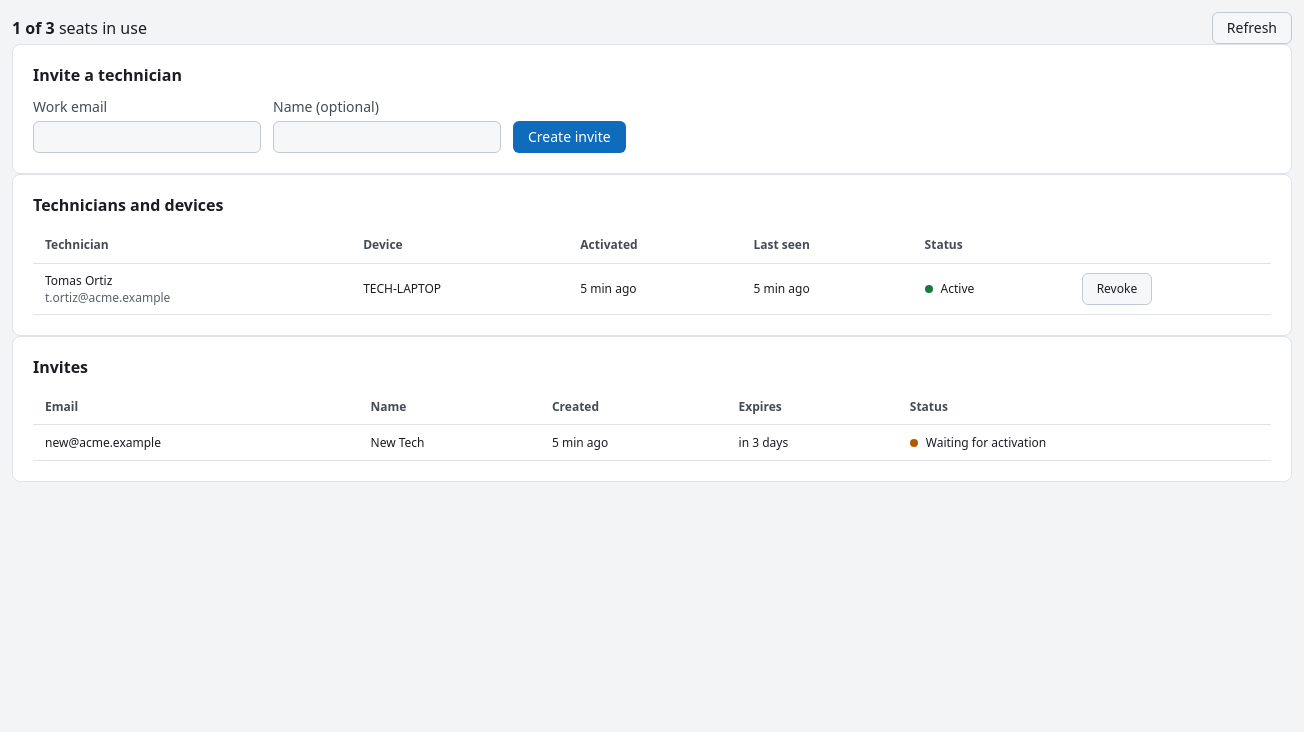
it: TechniciansPage › shows an invite code once, copies it, and does not show it again after Done
In the field labelled "Work email": (147, 137) 33,121 -> 261,153, type " tech@acme.example "
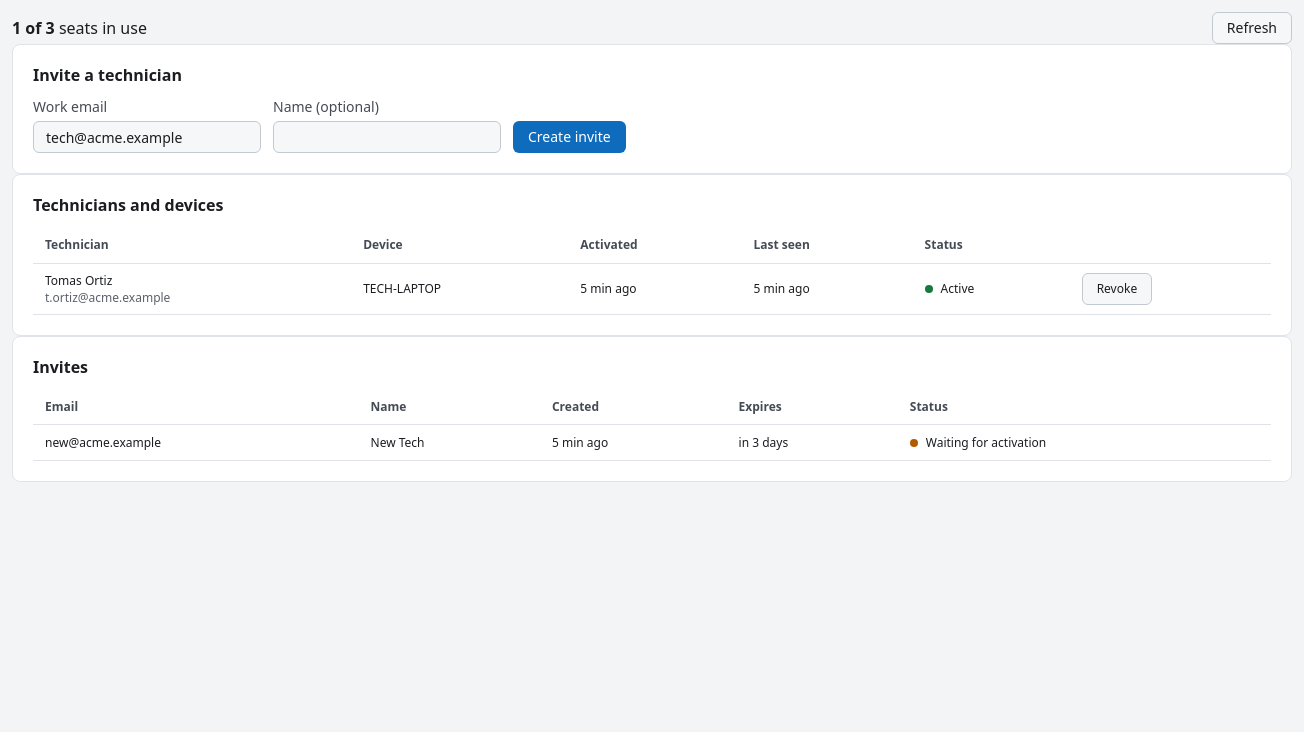
In the field labelled "Name (optional)": (387, 137) 273,121 -> 501,153, type "New Tech"
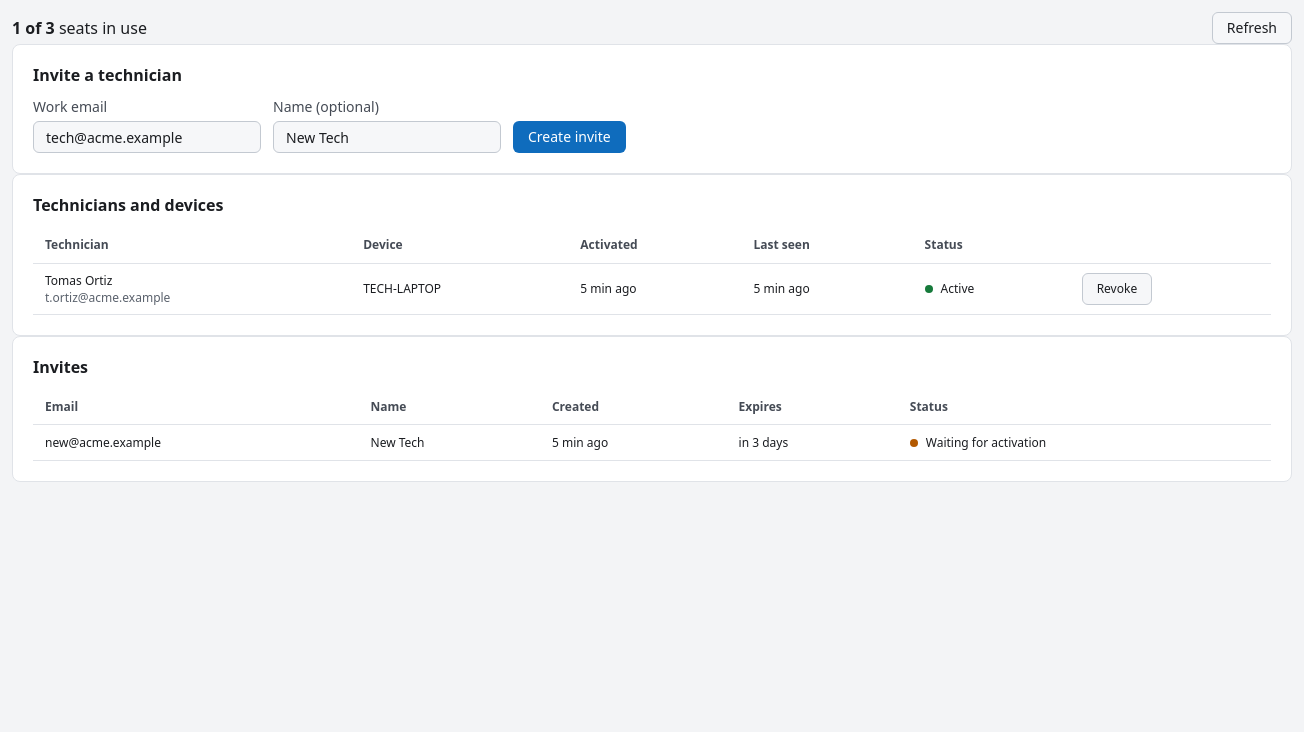
Click the button "Create invite": (569, 137) 513,121 -> 626,153
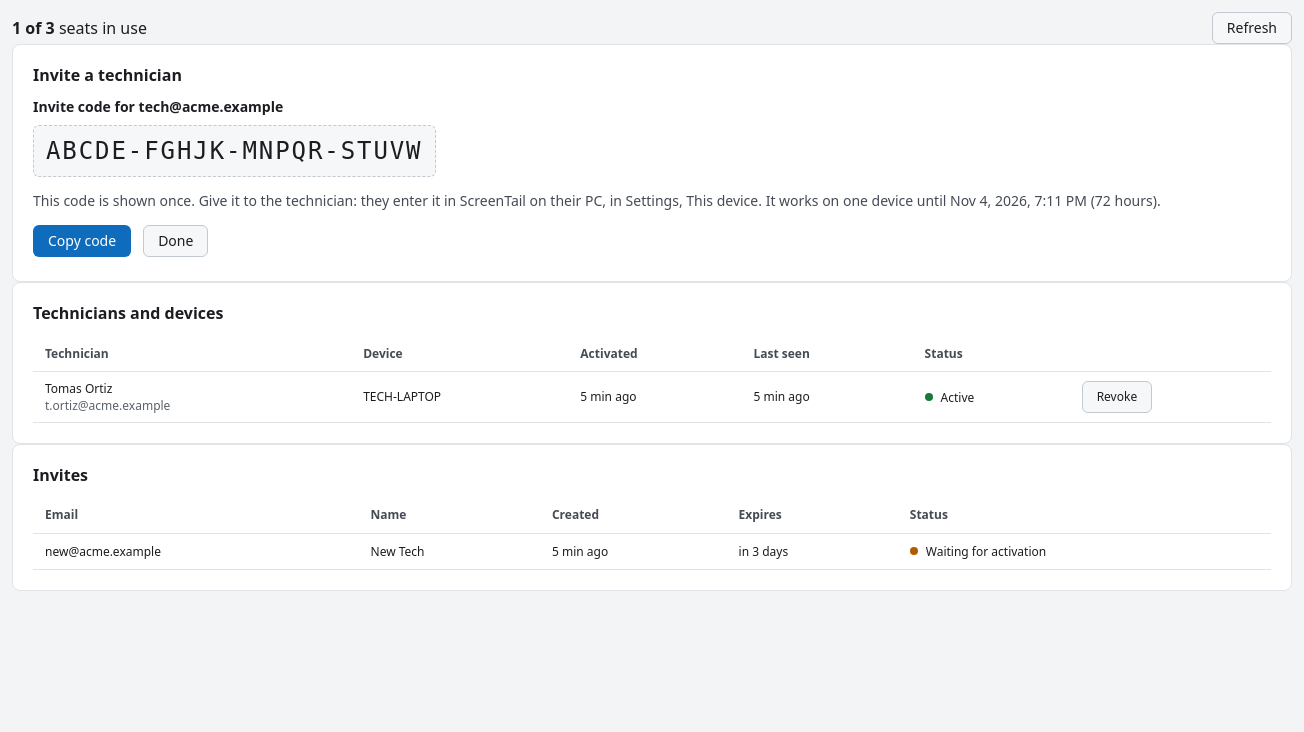
Expected: the text "ABCDE-FGHJK-MNPQR-STUVW" is shown, 33,125 -> 436,177
Expected: the text "shown once" is shown, 33,191 -> 950,210
Expected: the text "Invite code for tech@acme.example" is shown, 33,97 -> 283,116
Click the button "Copy code": (82, 241) 33,225 -> 131,257
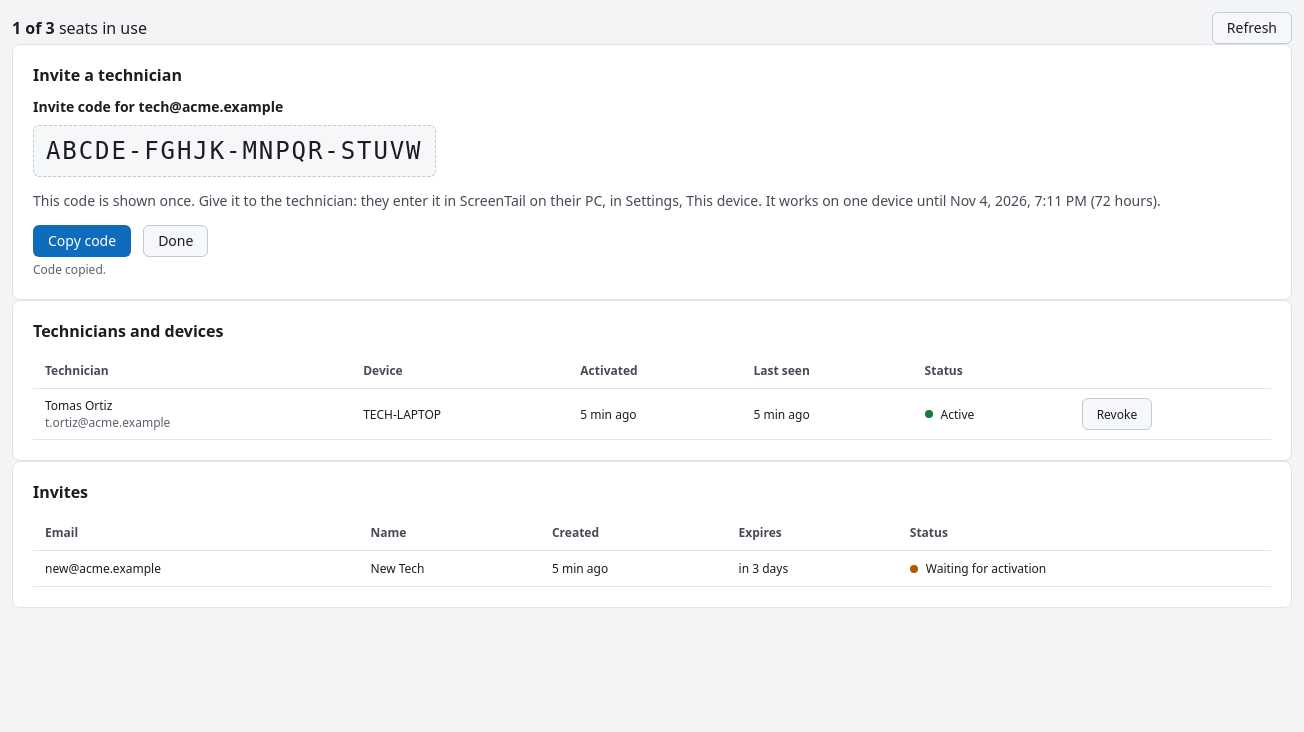
Expected: the text "Code copied." is shown, 33,261 -> 106,278
Click the button "Done": (176, 241) 143,225 -> 208,257
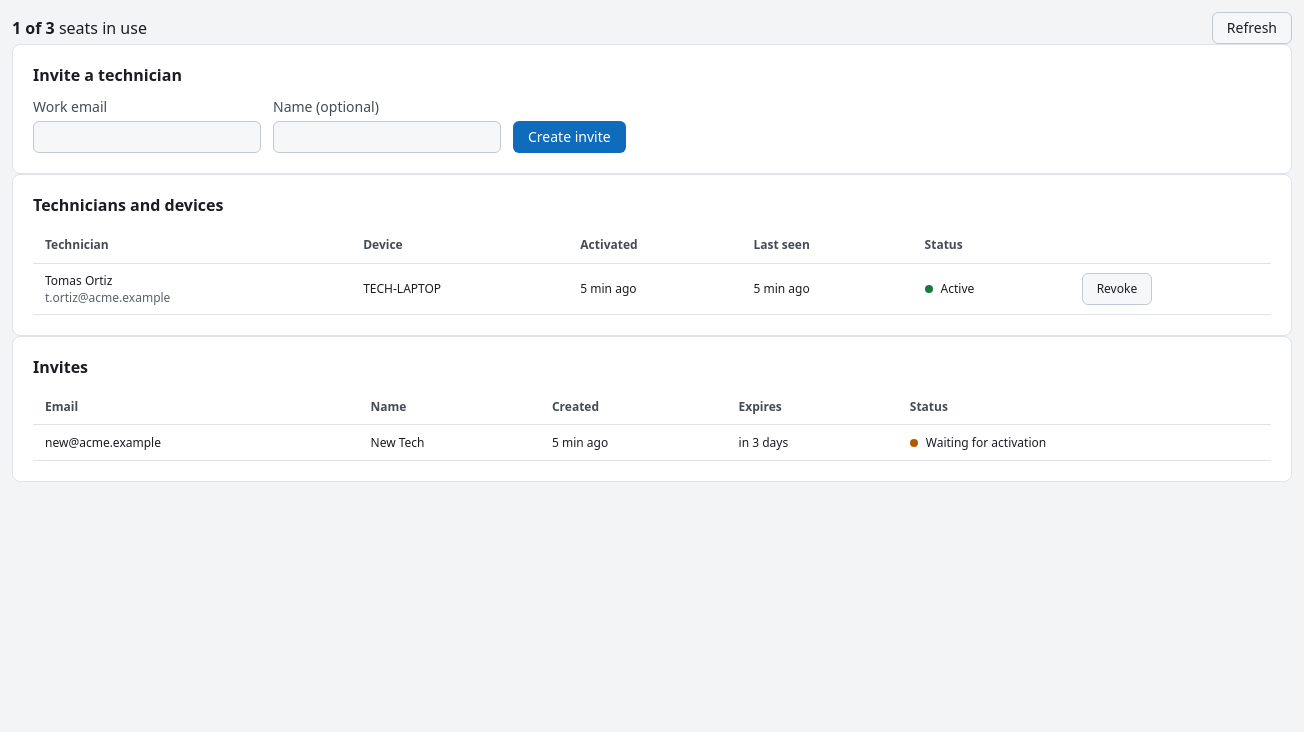
Expected: the text "ABCDE-FGHJK-MNPQR-STUVW" is gone
Expected: the field labelled "Work email" is shown, 33,121 -> 261,153
